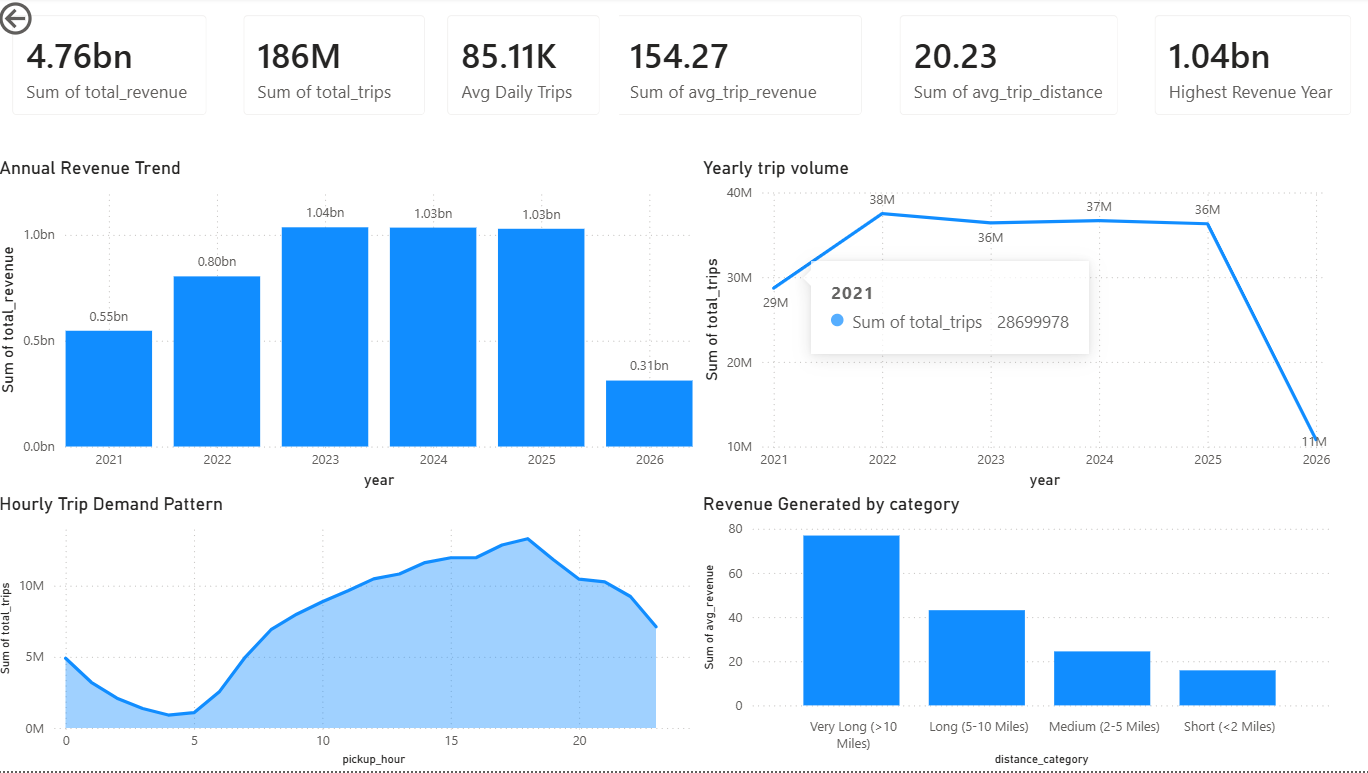

The page's visual inventory and layout, read from the dashboard file:
{"tool":"powerbi","page":{"name":"Page 1","canvas":[1280,720],"ordinal":0},"visuals":[{"type":"cardVisual","fields":{"Data":["Sum(mart_location_analysis.total_revenue)"]},"box":[0,0,215.6,127.9],"z":0},{"type":"cardVisual","fields":{"Data":["mart_distance_analysis.Highest Revenue Year"]},"box":[1063.2,0,217.1,127.9],"z":1000},{"type":"cardVisual","fields":{"Data":["Sum(mart_location_analysis.total_trips)"]},"box":[215.6,0,203.7,127.9],"z":2000},{"type":"cardVisual","fields":{"Data":["Sum(mart_yearly_revenue.avg_trip_revenue)"]},"box":[562.1,0,263.2,127.9],"z":3000},{"type":"cardVisual","fields":{"Data":["Sum(mart_yearly_revenue.avg_trip_distance)"]},"box":[825.3,0,237.9,127.9],"z":4000},{"type":"cardVisual","fields":{"Data":["mart_yearly_revenue.Avg Daily Trips"]},"box":[404.5,0,177,127.9],"z":5000},{"type":"clusteredColumnChart","title":"Annual Revenue Trend","fields":{"Category":["mart_yearly_revenue.year"],"Y":["Sum(mart_yearly_revenue.total_revenue)"]},"box":[0,148.3,655,313.3],"z":6000},{"type":"lineChart","title":"Yearly trip volume","fields":{"Category":["mart_yearly_revenue.year"],"Y":["Sum(mart_yearly_revenue.total_trips)"]},"box":[655,148.3,593.3,313.3],"z":7000},{"type":"actionButton","box":[0,0,100,40],"z":8000},{"type":"areaChart","title":"Hourly Trip Demand Pattern","fields":{"Category":["mart_peak_hours.pickup_hour"],"Y":["Sum(mart_peak_hours.total_trips)"]},"box":[0,461.7,655,258.3],"z":9000},{"type":"columnChart","title":"Revenue Generated by category","fields":{"Category":["mart_distance_analysis.distance_category"],"Y":["Sum(mart_distance_analysis.avg_revenue)"]},"box":[655,461.7,593.3,258.3],"z":10000}]}

Visuals, with their boxes in screenshot pixels (x1, y1, x2, y2), scaled from the page's 1280x720 canvas onto the 1368x773 screenshot:
cardVisual - Sum(mart_location_analysis.total_revenue): crop(0, 0, 230, 137)
cardVisual - mart_distance_analysis.Highest Revenue Year: crop(1136, 0, 1367, 137)
cardVisual - Sum(mart_location_analysis.total_trips): crop(230, 0, 448, 137)
cardVisual - Sum(mart_yearly_revenue.avg_trip_revenue): crop(601, 0, 882, 137)
cardVisual - Sum(mart_yearly_revenue.avg_trip_distance): crop(882, 0, 1136, 137)
cardVisual - mart_yearly_revenue.Avg Daily Trips: crop(432, 0, 621, 137)
"Annual Revenue Trend" clusteredColumnChart: crop(0, 159, 700, 496)
"Yearly trip volume" lineChart: crop(700, 159, 1334, 496)
actionButton: crop(0, 0, 107, 43)
"Hourly Trip Demand Pattern" areaChart: crop(0, 496, 700, 772)
"Revenue Generated by category" columnChart: crop(700, 496, 1334, 772)
